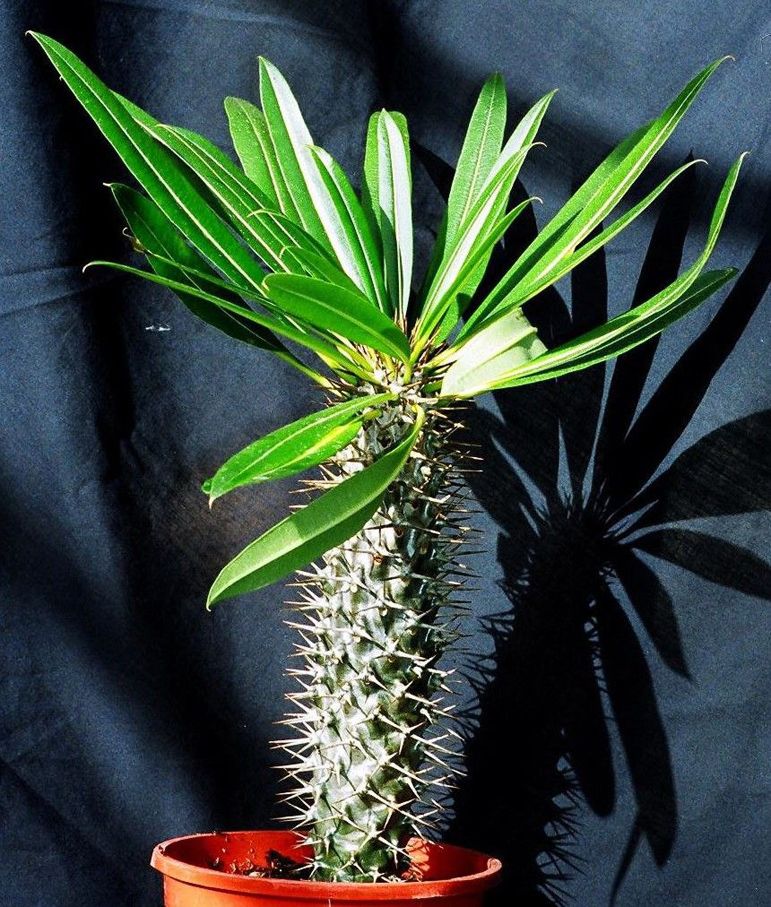Pachypodium lamerei Drake: (144, 86, 616, 882)
